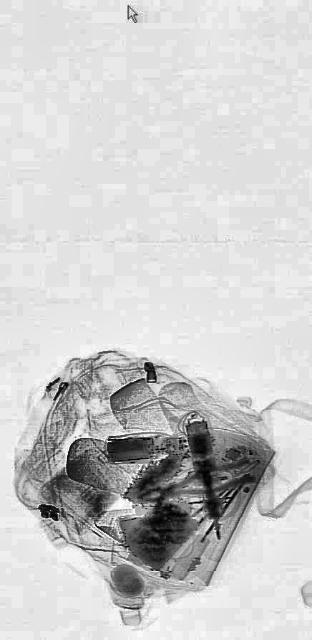Pliers: (145, 452, 253, 512)
